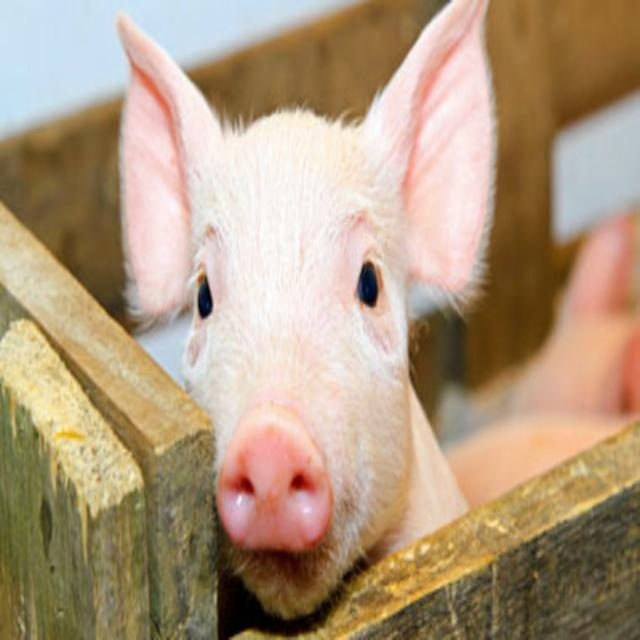Pig: (104, 6, 515, 616)
